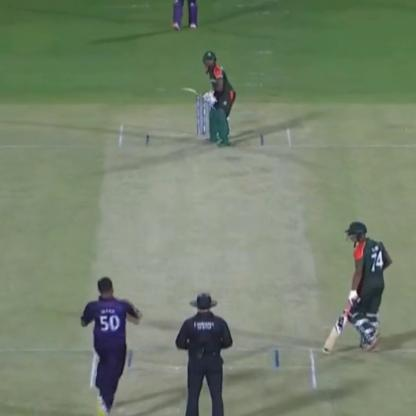bat: (317, 298, 353, 355), (176, 76, 213, 104)
pitch: (84, 121, 330, 392)
